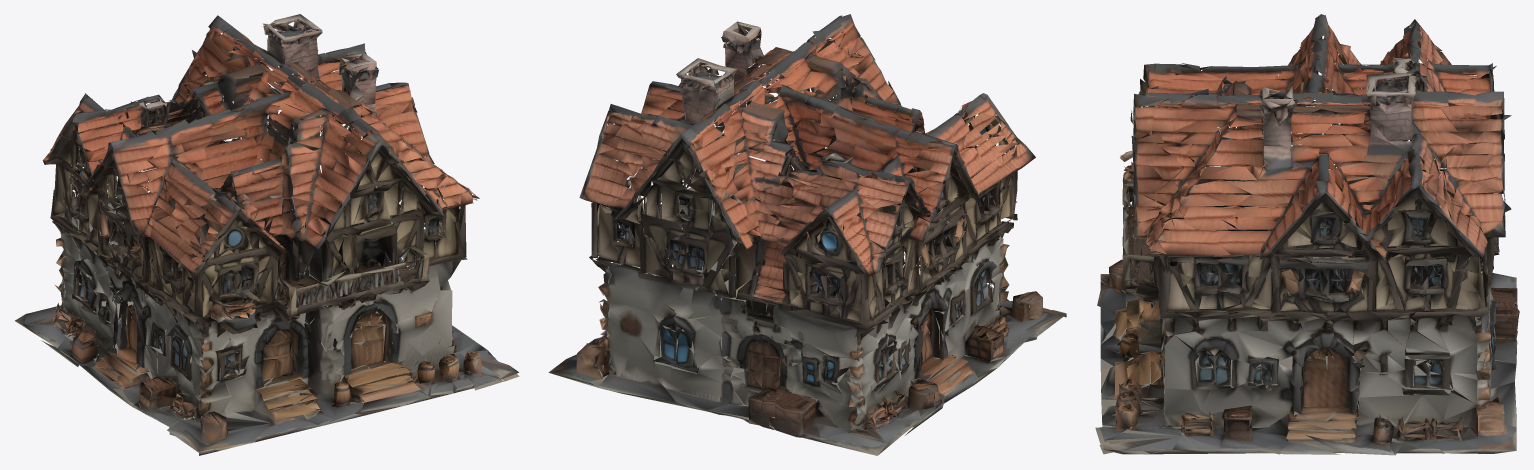
The model's file is A_modular_medieval_ho_town.glb.
3 views of the same model, side by side, from view 1: azimuth 30°, elevation 25°; view 2: azimuth 150°, elevation 25°; view 3: azimuth 270°, elevation 25° (orthographic). The views are drawn at different scales.
Visible parts, largest first — view 1: A_modular_medieval_ho; view 2: A_modular_medieval_ho; view 3: A_modular_medieval_ho.
Boxes of the visible parts, x1,y1,x2,y2 form: A_modular_medieval_ho: (15, 14, 519, 455); A_modular_medieval_ho: (548, 14, 1066, 455); A_modular_medieval_ho: (1095, 14, 1519, 455).
Bounding box in the file's own units: 2.02 × 1.68 × 2.03.
Materials: 1 (1 with a texture image).
